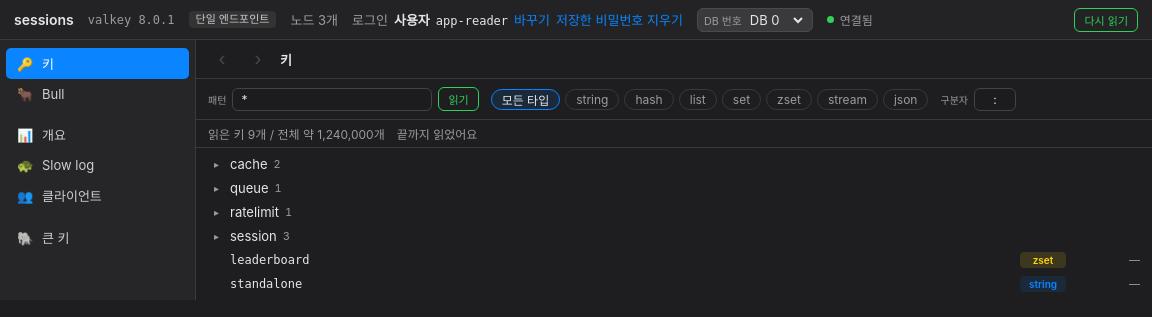
Test: keys › a key without expiry says 만료 없음
The image size is (1152, 317).
Click the list item "standalone string —" at (266, 284), box [196, 272, 1151, 296]
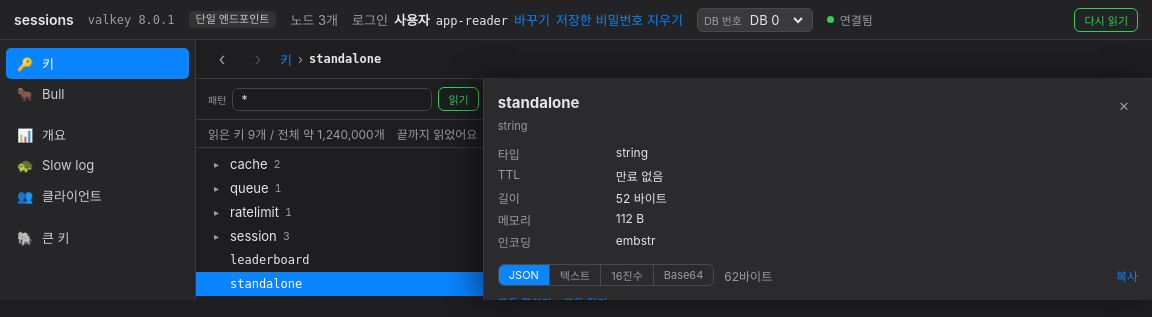
Check: the text "만료 없음" is shown, box [616, 169, 663, 184]
